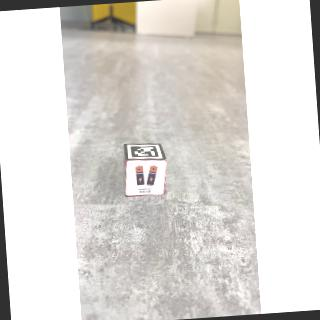Used_Battery: (123, 157, 169, 199)
